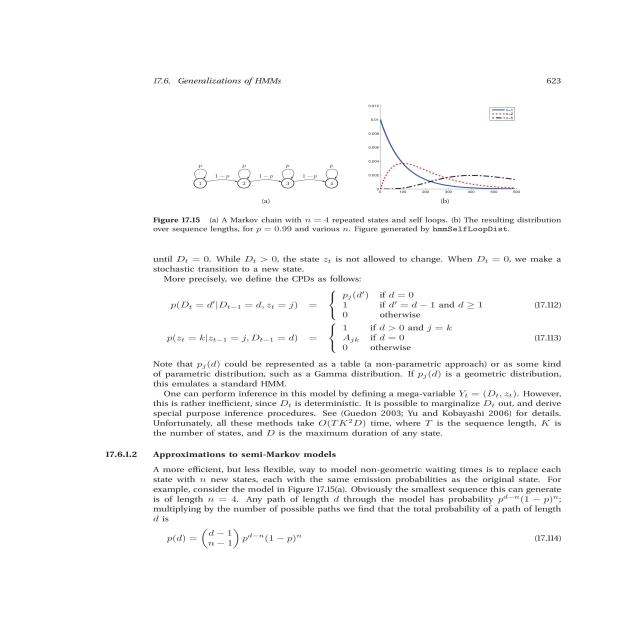diagram: (100, 100, 588, 242)
